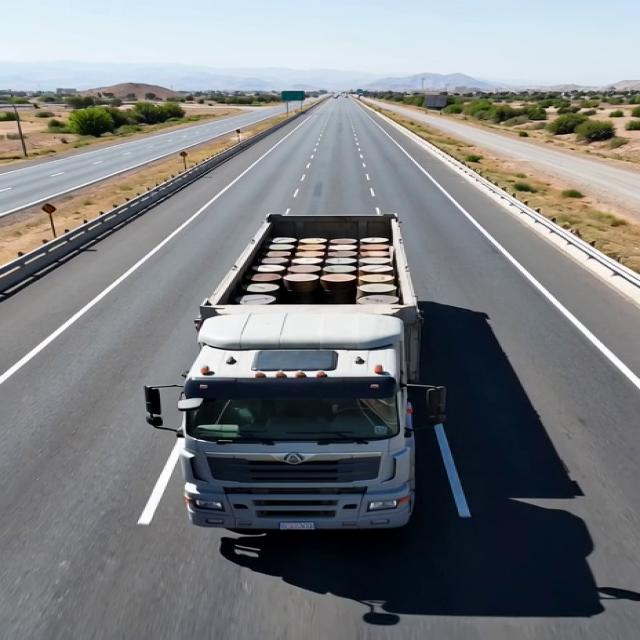trailer: (201, 211, 422, 311)
truck: (129, 189, 486, 543)
